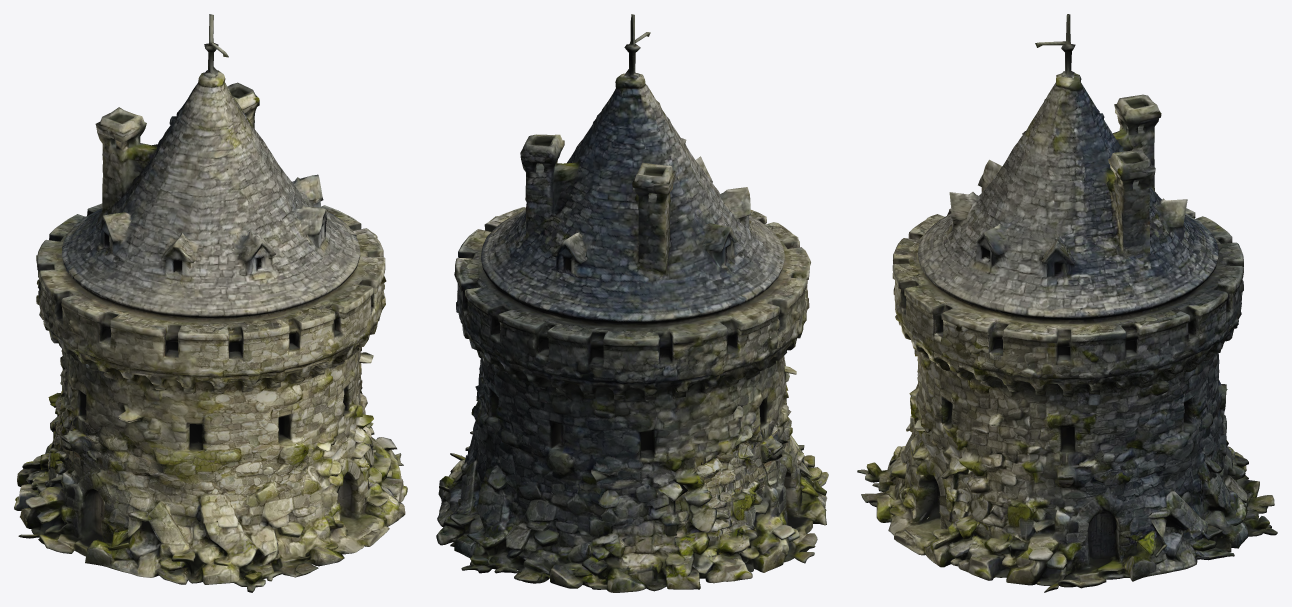
The model's file is fort_citadel_tower.glb.
The picture shows the model from 3 angles, left to right: view 1: azimuth 30°, elevation 25°; view 2: azimuth 150°, elevation 25°; view 3: azimuth 270°, elevation 25°; orthographic projection.
Visible parts, largest first — view 1: tripo_node_baa58257-c7af-40c1-a367-ed98afa6ca54; view 2: tripo_node_baa58257-c7af-40c1-a367-ed98afa6ca54; view 3: tripo_node_baa58257-c7af-40c1-a367-ed98afa6ca54.
Boxes of the visible parts, box(x1,y1,x2,y2) form: tripo_node_baa58257-c7af-40c1-a367-ed98afa6ca54: box(14, 14, 407, 592); tripo_node_baa58257-c7af-40c1-a367-ed98afa6ca54: box(436, 14, 828, 592); tripo_node_baa58257-c7af-40c1-a367-ed98afa6ca54: box(857, 14, 1277, 592).
Size of the model in its own units: 0.7937 by 1 by 0.7785.
1 material, 1 textured.
